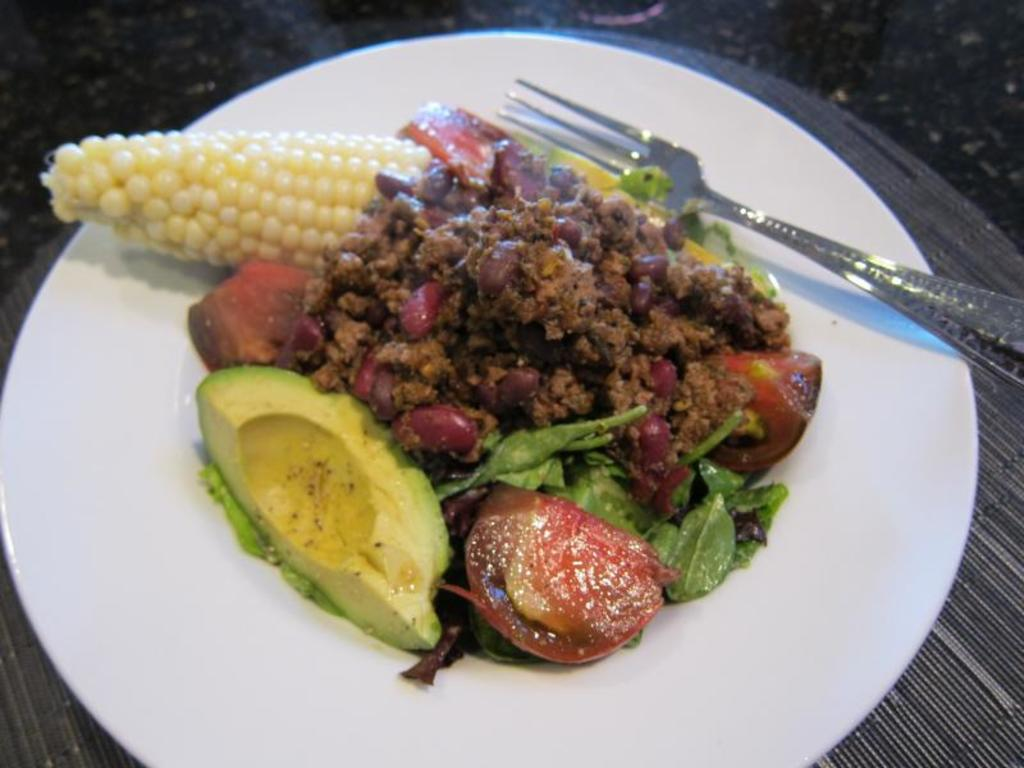salad: (36, 95, 815, 690)
